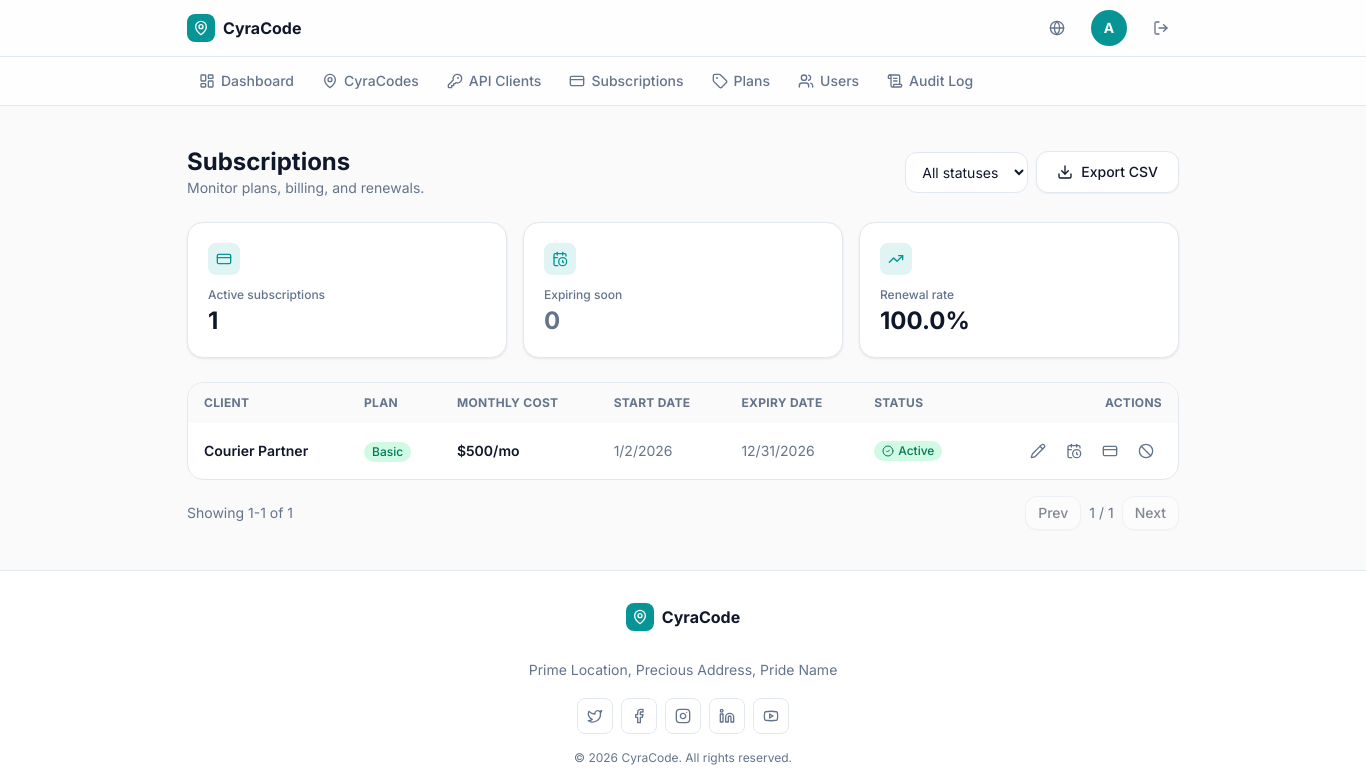
Test case: AdminSubscriptions › filtering by status keeps only matching rows
Expected: the text "Courier Partner" is shown, x1=204 y1=441 x2=308 y2=461
Select "Cancelled" in the dropdown named "Status": x=967, y=172 x1=905 y1=152 x2=1028 y2=192
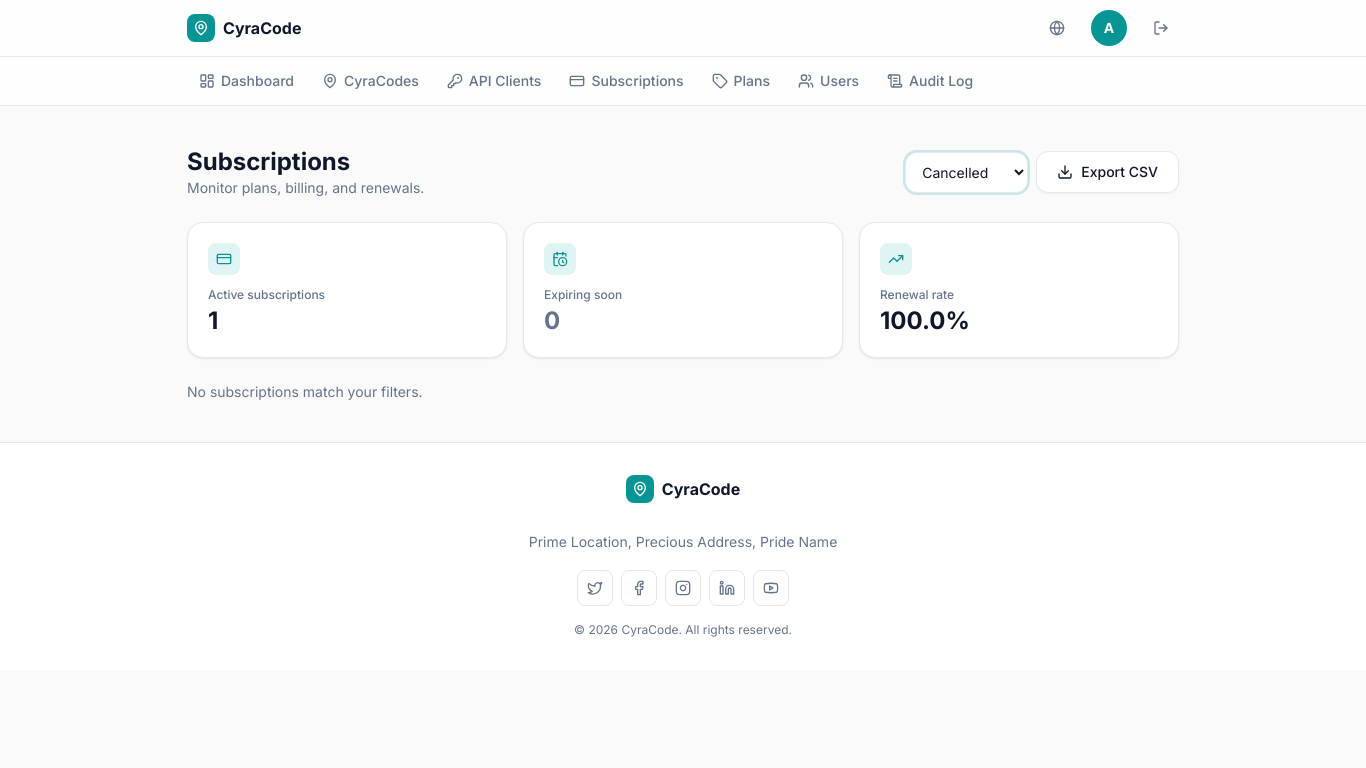
Now the text "No subscriptions match your filters." is shown, box x1=187 y1=383 x2=423 y2=400
